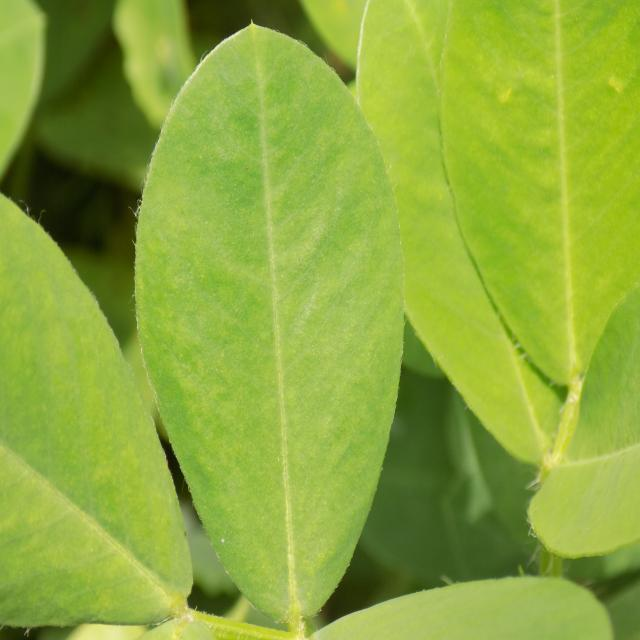Ground nut_healthy: (143, 24, 407, 621)
